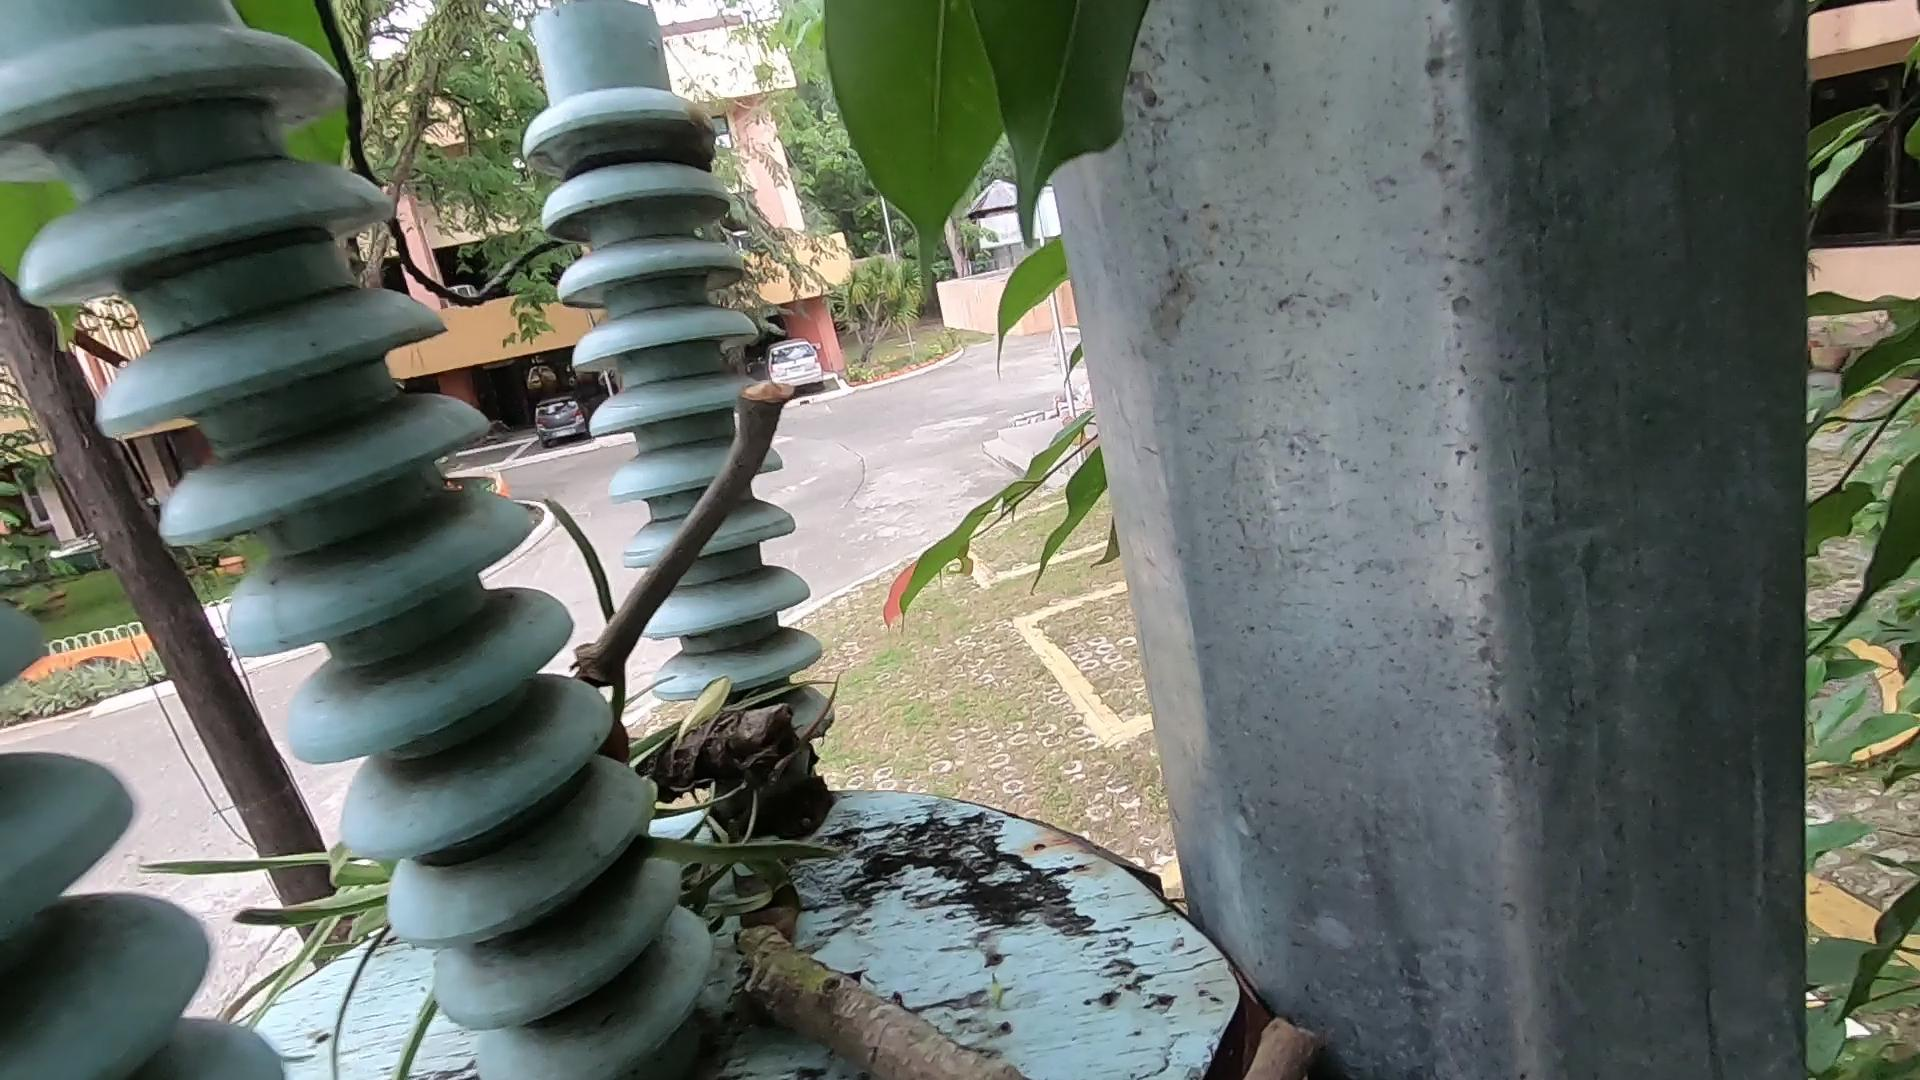branch with leaves: (595, 642, 1011, 1059)
tree branch: (632, 342, 754, 719), (1203, 996, 1304, 1080)
